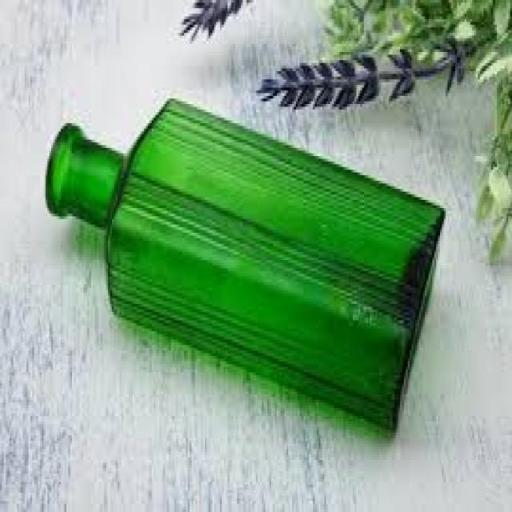glass: (42, 80, 483, 436)
